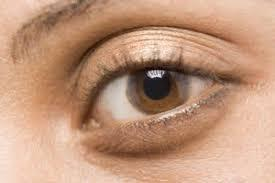Eyebags: (101, 110, 220, 157)
